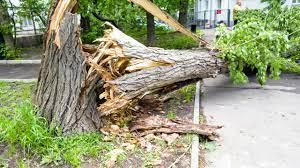Downstairs: (87, 1, 300, 115)
